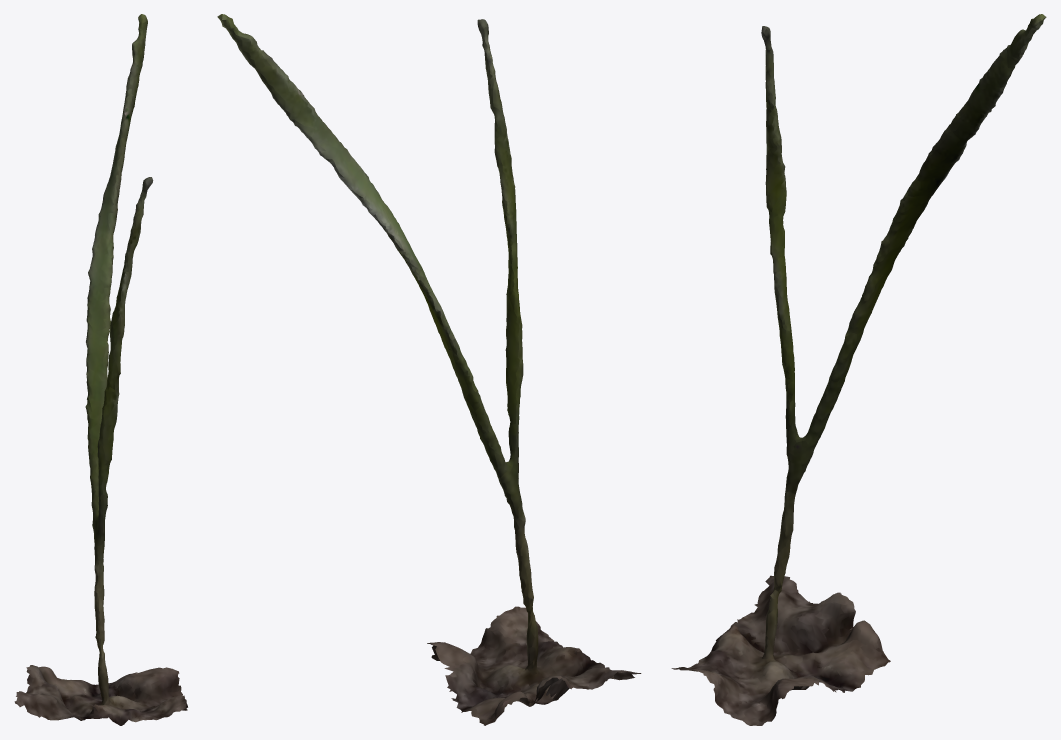
File: Day3.glb
3 renders of one model, left to right at view 1: azimuth 30°, elevation 25°; view 2: azimuth 150°, elevation 25°; view 3: azimuth 270°, elevation 25°, orthographic. The views are drawn at different scales.
Visible parts, largest first — view 1: Day3; view 2: Day3; view 3: Day3.
Part boxes in pixels (x1,y1,x2,y2): Day3: [14, 14, 187, 725]; Day3: [217, 14, 641, 725]; Day3: [671, 14, 1046, 725].
Bounding box in the file's own units: 0.2691 × 0.6402 × 0.2888.
56 materials, 56 textured.
